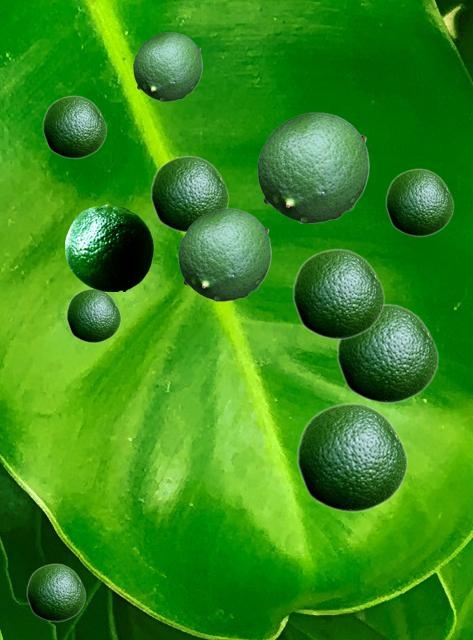calamansi: (257, 112, 368, 222), (296, 402, 407, 512), (336, 303, 438, 403), (178, 208, 270, 300), (292, 248, 384, 339), (65, 204, 152, 290), (150, 155, 228, 232), (133, 32, 201, 100), (385, 168, 453, 236), (42, 95, 106, 158), (26, 563, 85, 621), (66, 288, 120, 342)
